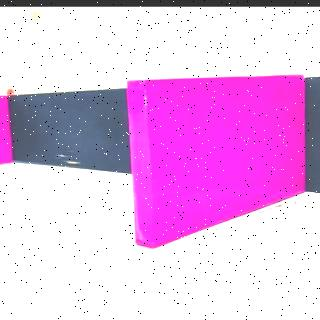xparking: (132, 80, 304, 224)
